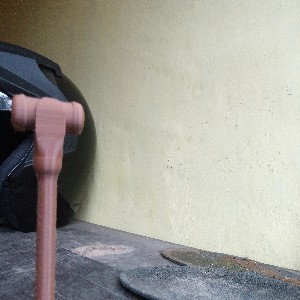palu: (10, 93, 86, 300)
